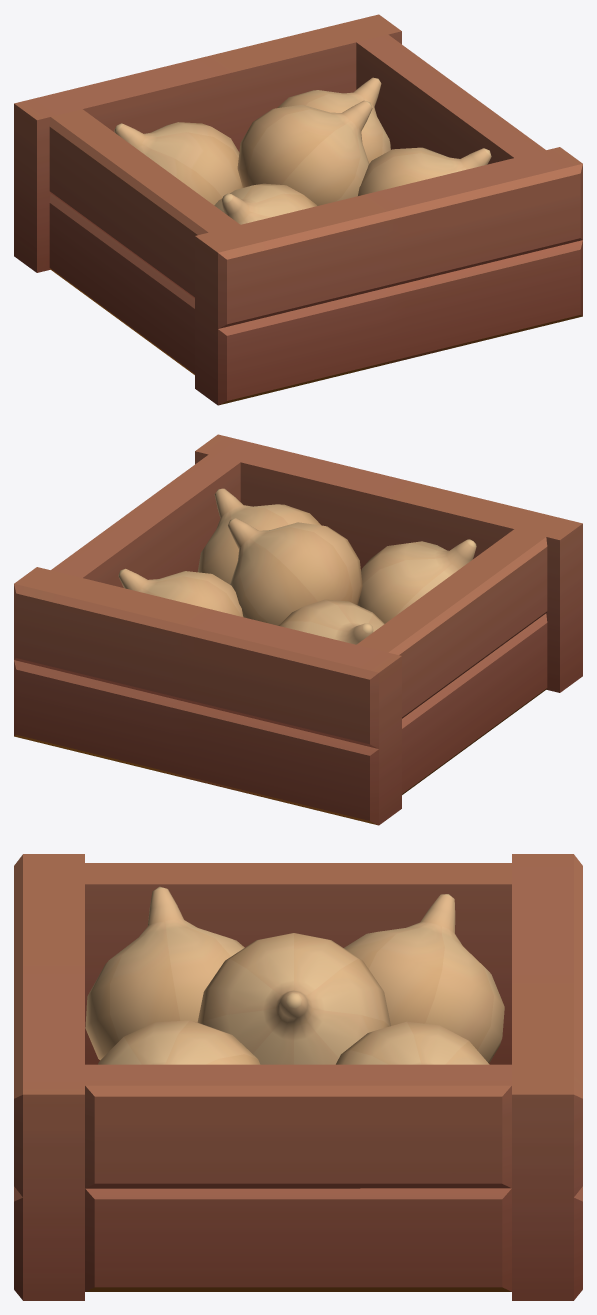
The model's file is kay-caixa-cebolas.gltf.
3 views of the same model, one above another, from view 1: azimuth 30°, elevation 25°; view 2: azimuth 150°, elevation 25°; view 3: azimuth 270°, elevation 25° (orthographic). The views are drawn at different scales.
Visible parts, largest first — view 1: crate_onions; view 2: crate_onions; view 3: crate_onions.
Boxes of the visible parts, x1,y1,x2,y2 form: crate_onions: [14, 14, 582, 405]; crate_onions: [14, 434, 582, 825]; crate_onions: [14, 854, 582, 1300].
Size of the model in its own units: 1.3 by 0.6002 by 1.3.
Materials: 1 (1 with a texture image).
